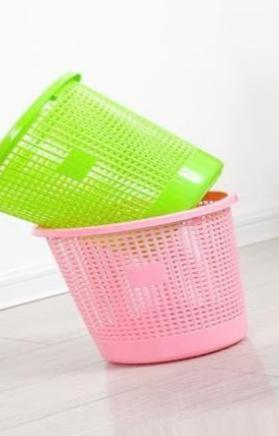Bote de Basura: (29, 194, 242, 373), (0, 80, 226, 231)
